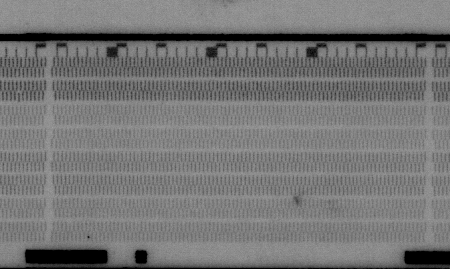Oblique printing: (13, 92, 25, 104)
